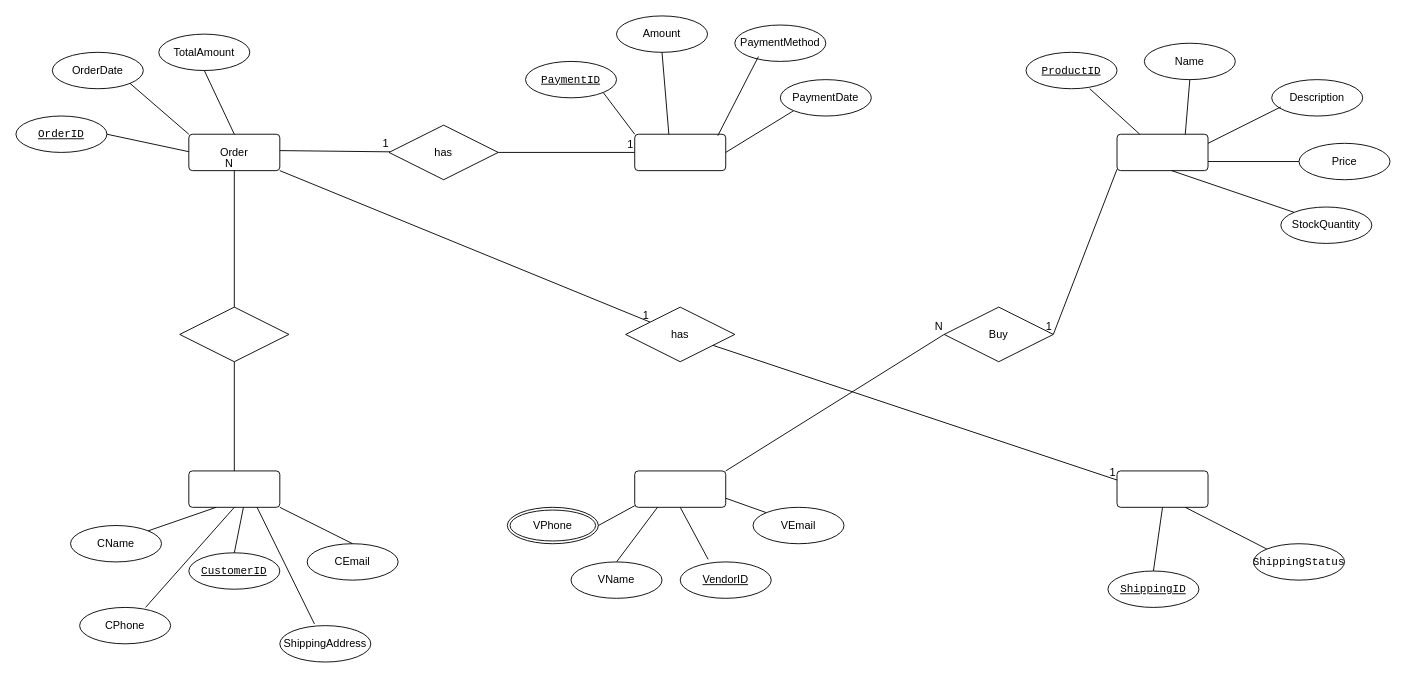
Image size: 1406x678. Some labels were removed from this diagram. The centre of each missing label's shape, as x and y in pixels:
"can place" belongs at point 234,334.
"Customer" belongs at point 234,488.
"Payment" belongs at point 680,152.
"Product" belongs at point 1162,152.
"Shipping" belongs at point 1162,488.
"Vendor" belongs at point 680,488.
